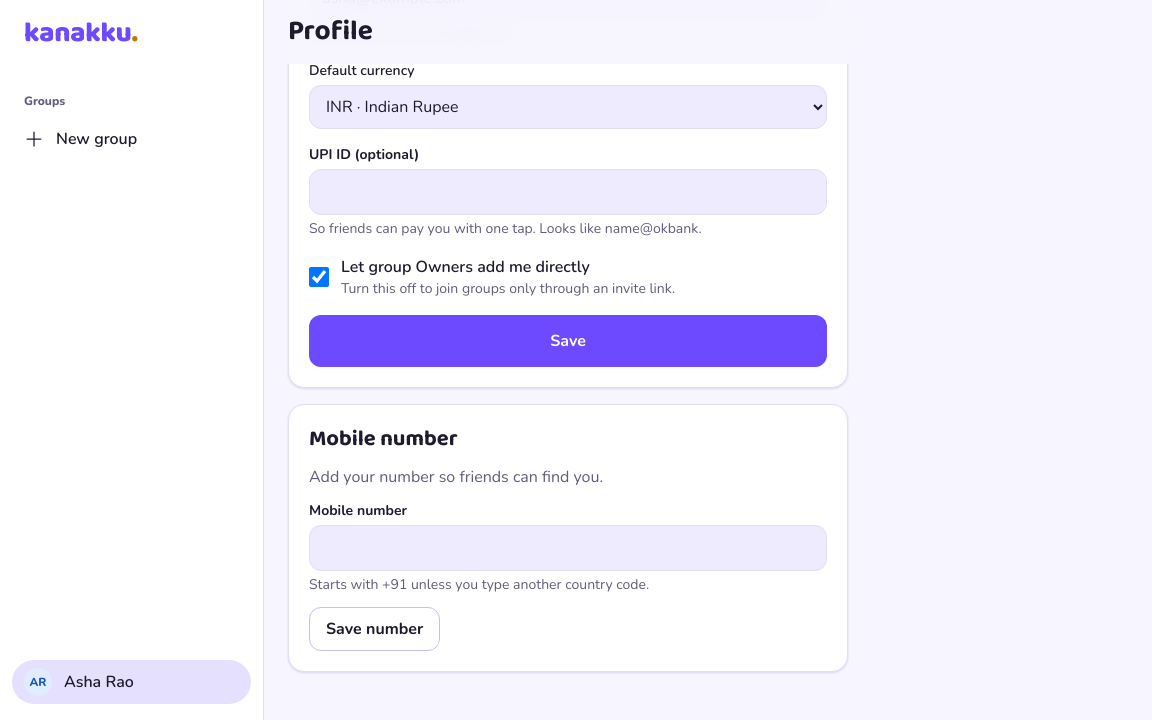
PhoneSection › asks for a number before saving and shows invalid and taken numbers on the field
(page scrolled)
Expected: the heading "Mobile number" is shown, [309,421,458,457]
Click the button "Save number" at (375,629), box [309,607,440,651]
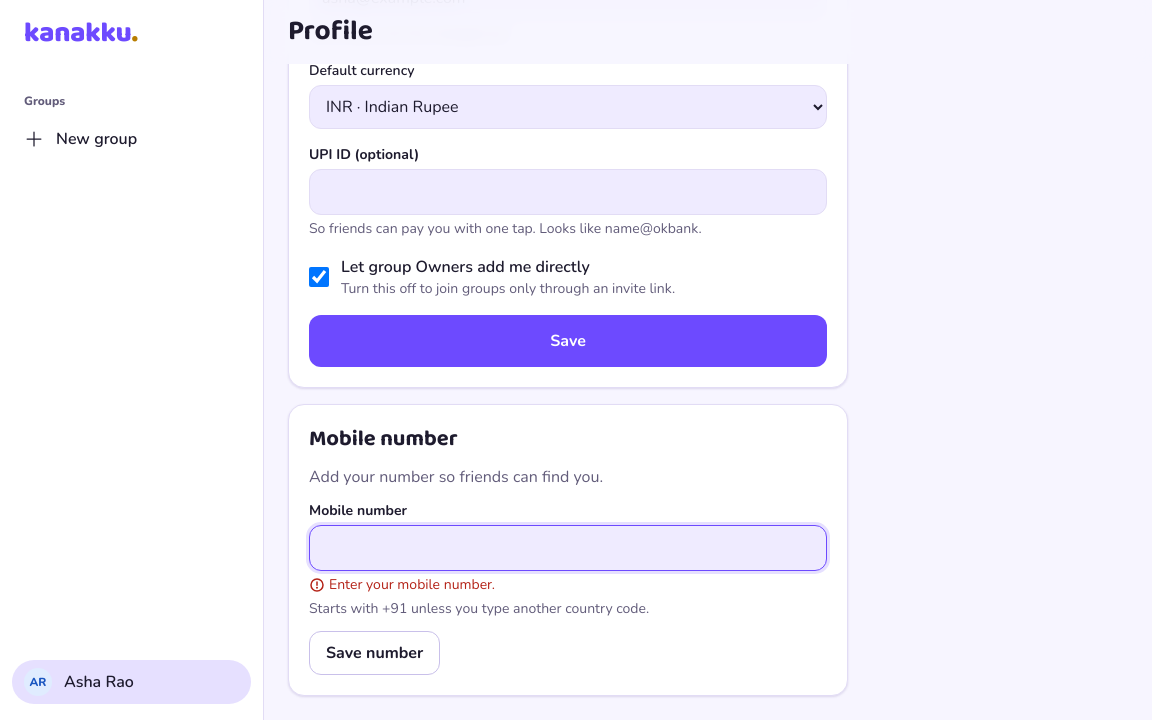
Expected: the text "Enter your mobile number." is shown, [309,575,495,594]
Type "12345" into the field labelled "Mobile number" at (568,548), box [310,526,826,570]
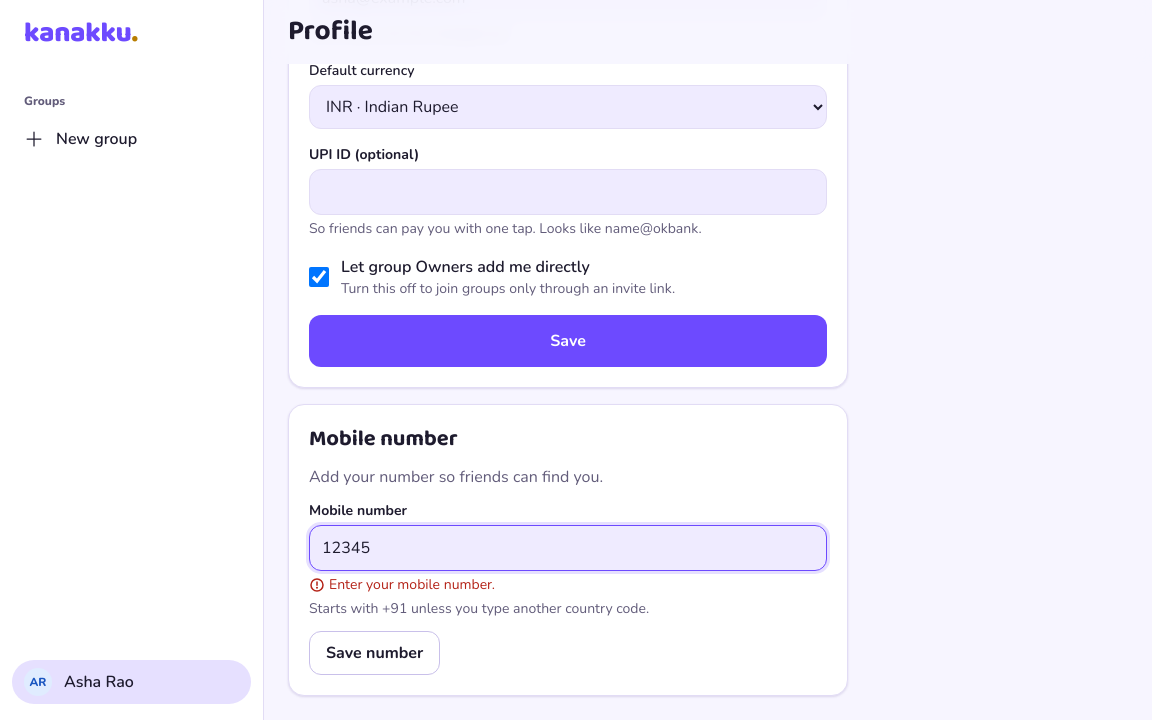
Click the button "Save number" at (375,653), box [309,631,440,675]
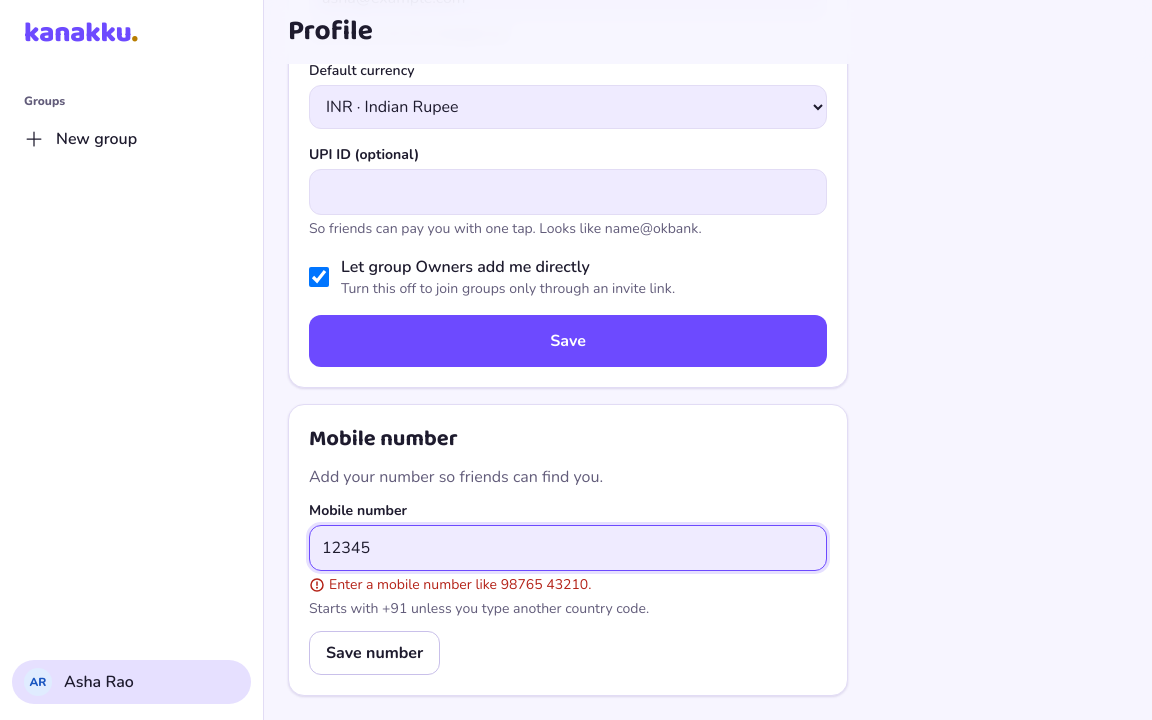
Expected: the text "Enter a mobile number like 98765 43210." is shown, [309,575,592,594]
Click the button "Save number" at (375,653), box [309,631,440,675]
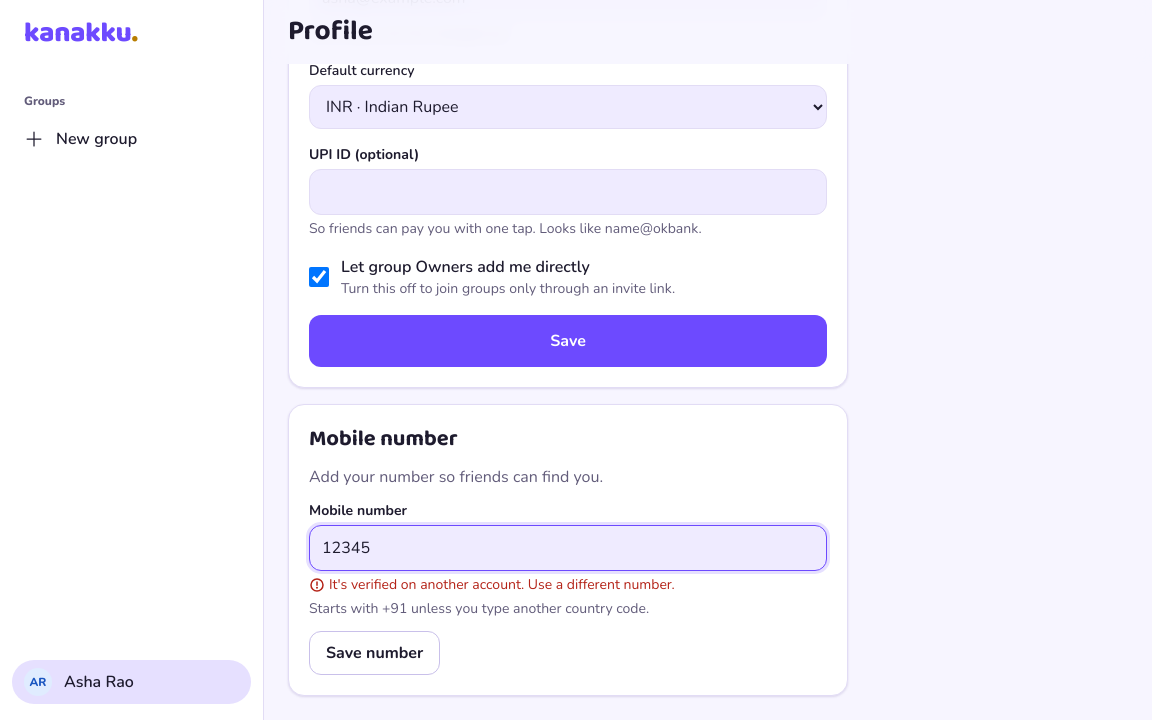
Expected: the text "It's verified on another account. Use a different number." is shown, [309,575,675,594]
